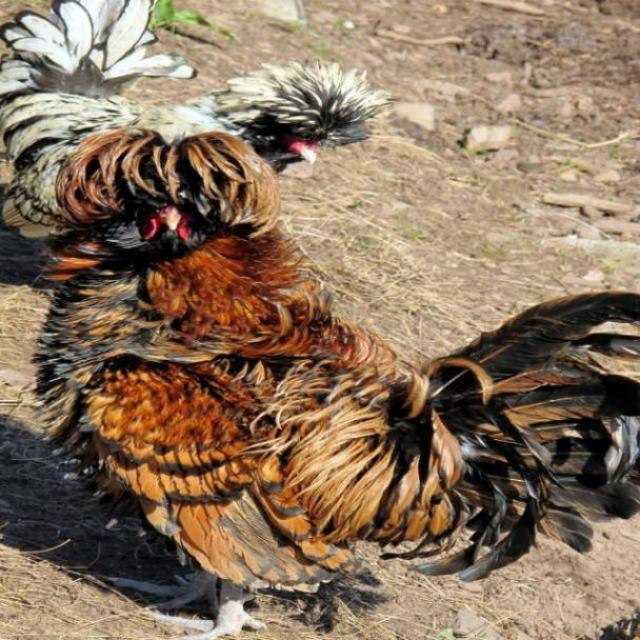Chicken: (43, 79, 520, 538), (0, 0, 398, 261)
